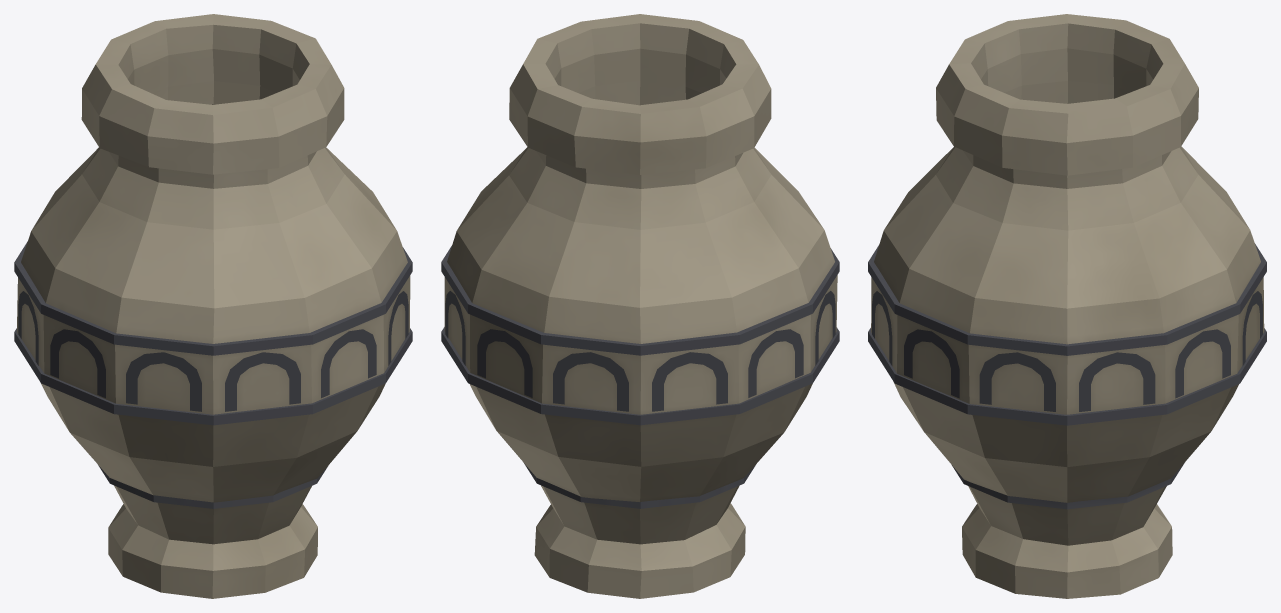
The model's file is urn_stone_ornate_01.glb.
3 views of the same model, side by side, from view 1: azimuth 30°, elevation 25°; view 2: azimuth 150°, elevation 25°; view 3: azimuth 270°, elevation 25° (orthographic).
Parts seen in each view (by area): view 1: urn_stone_ornate_01; view 2: urn_stone_ornate_01; view 3: urn_stone_ornate_01.
Boxes of the visible parts, bbox=[...] form: urn_stone_ornate_01: bbox=[14, 14, 412, 598]; urn_stone_ornate_01: bbox=[441, 14, 839, 598]; urn_stone_ornate_01: bbox=[868, 14, 1266, 598].
Size of the model in its own units: 0.456 by 0.6215 by 0.456.
2 materials, 2 textured.
